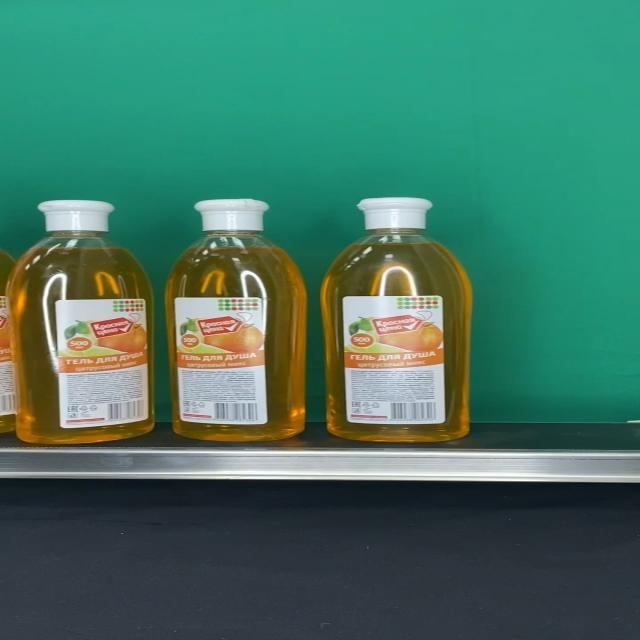Bottle: (320, 198, 473, 441), (8, 200, 154, 445), (165, 198, 306, 440)
Cap: (193, 199, 270, 231), (39, 200, 115, 232), (357, 198, 433, 230)
